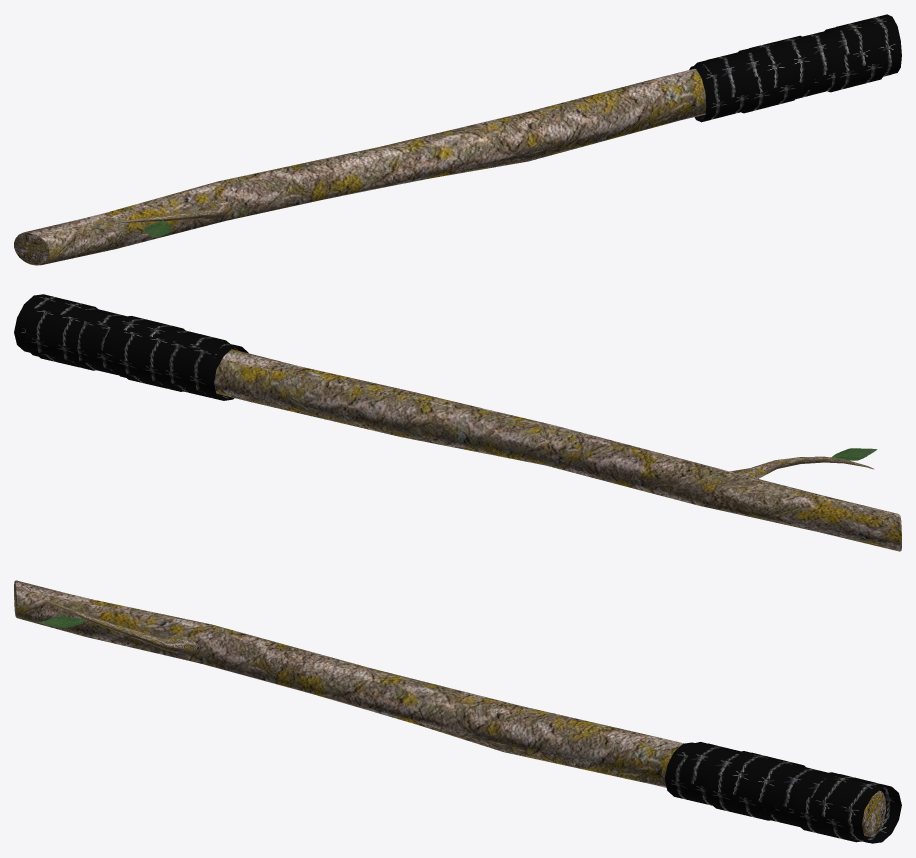
File: ramaespino.fbx
3 views of the same model, one above another, from view 1: azimuth 30°, elevation 25°; view 2: azimuth 150°, elevation 25°; view 3: azimuth 330°, elevation 25° (orthographic).
Visible parts, largest first — view 1: rama_ESPINO, ESPINO10, ESPINO08, ESPINO07, ESPINO09; view 2: rama_ESPINO, ESPINO10, ESPINO08, ESPINO07, ESPINO09; view 3: rama_ESPINO, ESPINO10, ESPINO08, ESPINO07, ESPINO09.
Part boxes in pixels (x1=…): rama_ESPINO: x1=14, y1=68, x2=706, y2=265; ESPINO10: x1=824, y1=14, x2=901, y2=92; ESPINO08: x1=738, y1=35, x2=814, y2=113; ESPINO07: x1=689, y1=51, x2=762, y2=122; ESPINO09: x1=795, y1=30, x2=849, y2=99; rama_ESPINO: x1=214, y1=349, x2=901, y2=551; ESPINO10: x1=14, y1=294, x2=97, y2=370; ESPINO08: x1=102, y1=316, x2=185, y2=391; ESPINO07: x1=164, y1=329, x2=248, y2=400; ESPINO09: x1=77, y1=307, x2=126, y2=375; rama_ESPINO: x1=14, y1=580, x2=886, y2=836; ESPINO10: x1=793, y1=772, x2=901, y2=843; ESPINO08: x1=706, y1=751, x2=805, y2=820; ESPINO07: x1=664, y1=742, x2=740, y2=805; ESPINO09: x1=758, y1=766, x2=828, y2=826.
Size of the model in its own units: 52.89 by 3.75 by 6.58.
